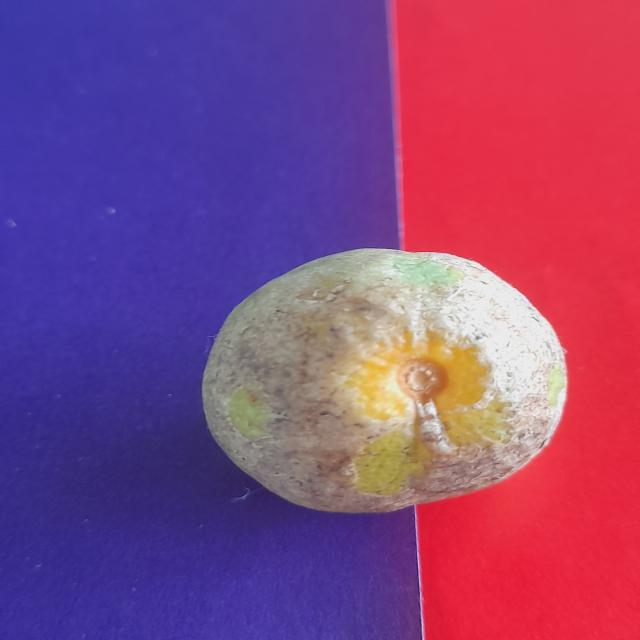thrips: (198, 232, 576, 518)
